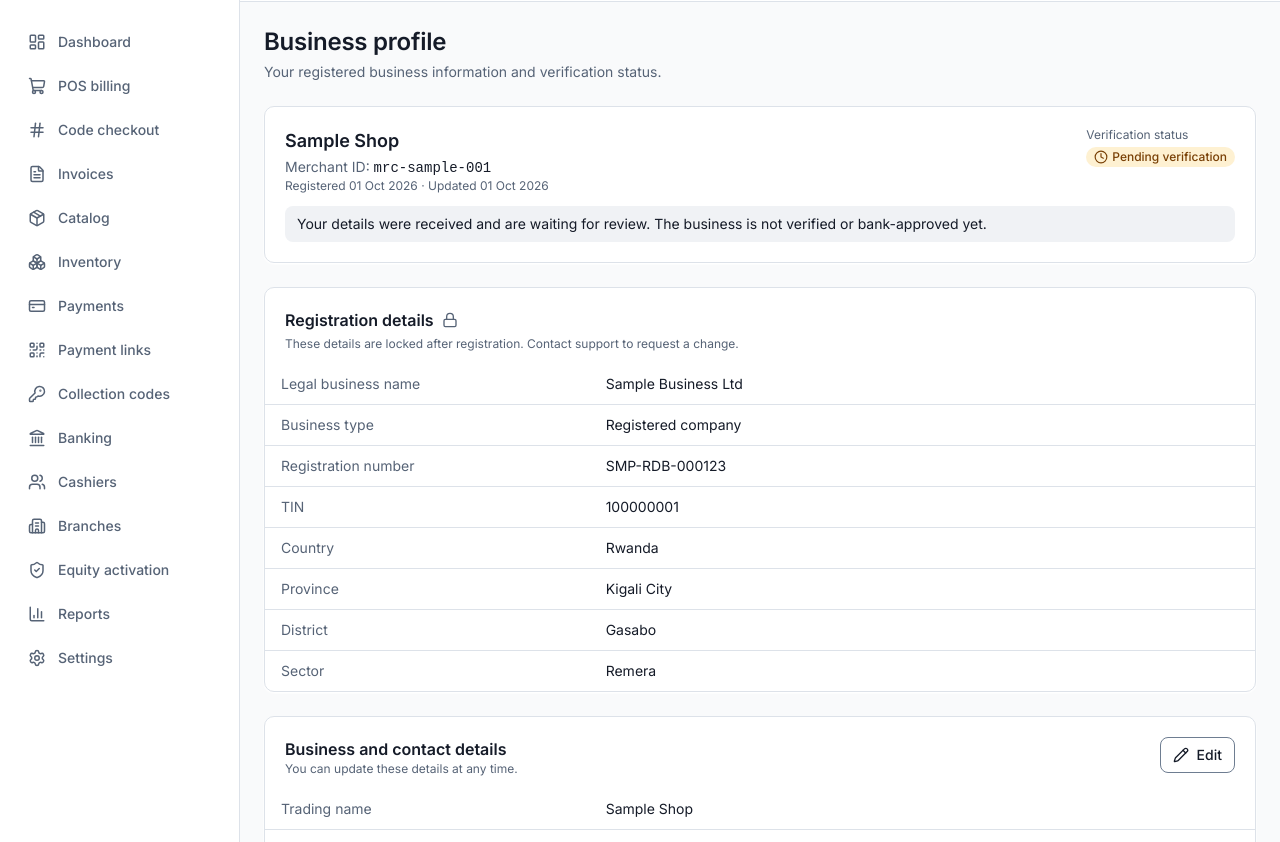
merchant profile › updates permitted fields and shows the saved values
The width and height of the screenshot is (1280, 842).
Expected: the text "mrc-sample-001" is shown, [374,160,491,176]
Step 1. Click the button named "Edit business and contact details" → (1197, 755), box [1160,737,1235,773]
(page scrolled)
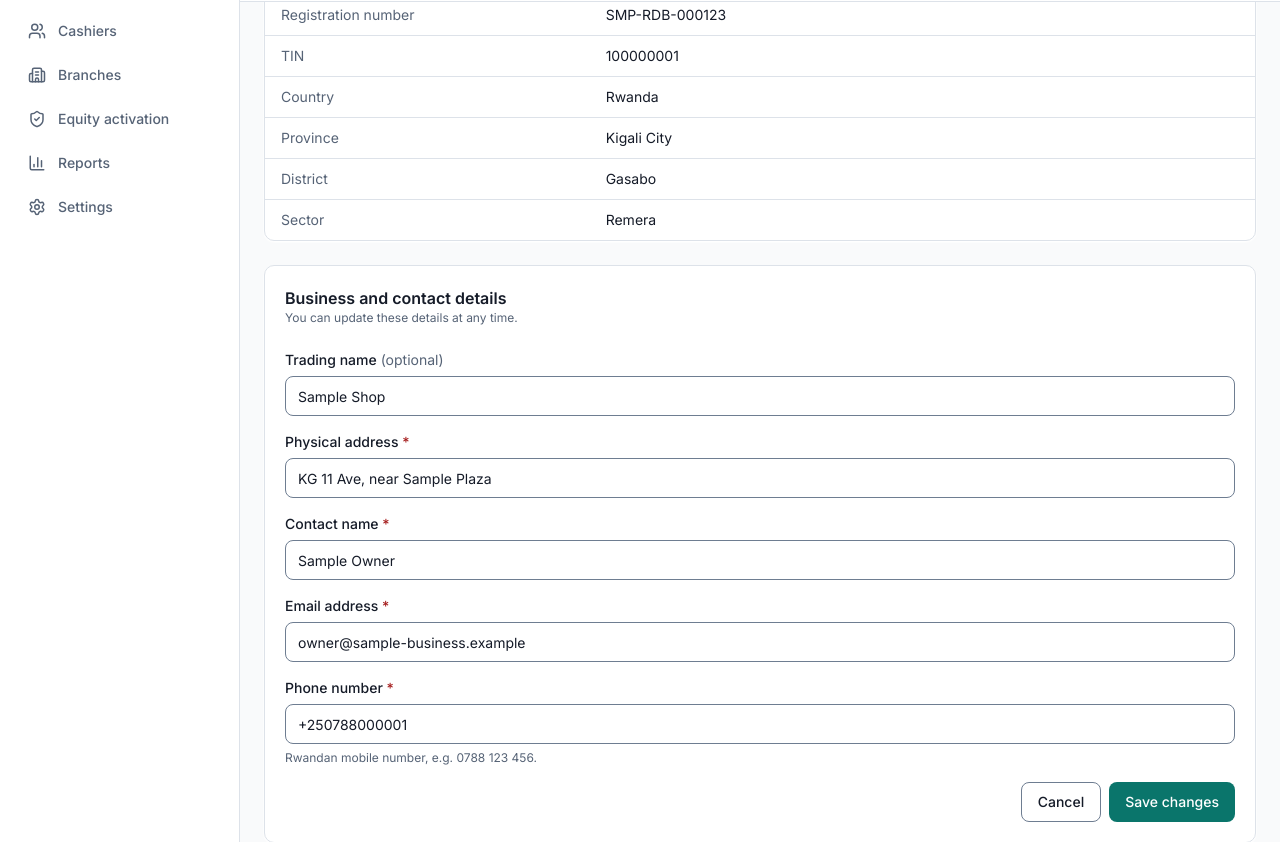
Step 2. Replace the text in the field labelled "Trading name (optional)" with "Sample Shop Remera" → (760, 396), box [285,376,1235,416]
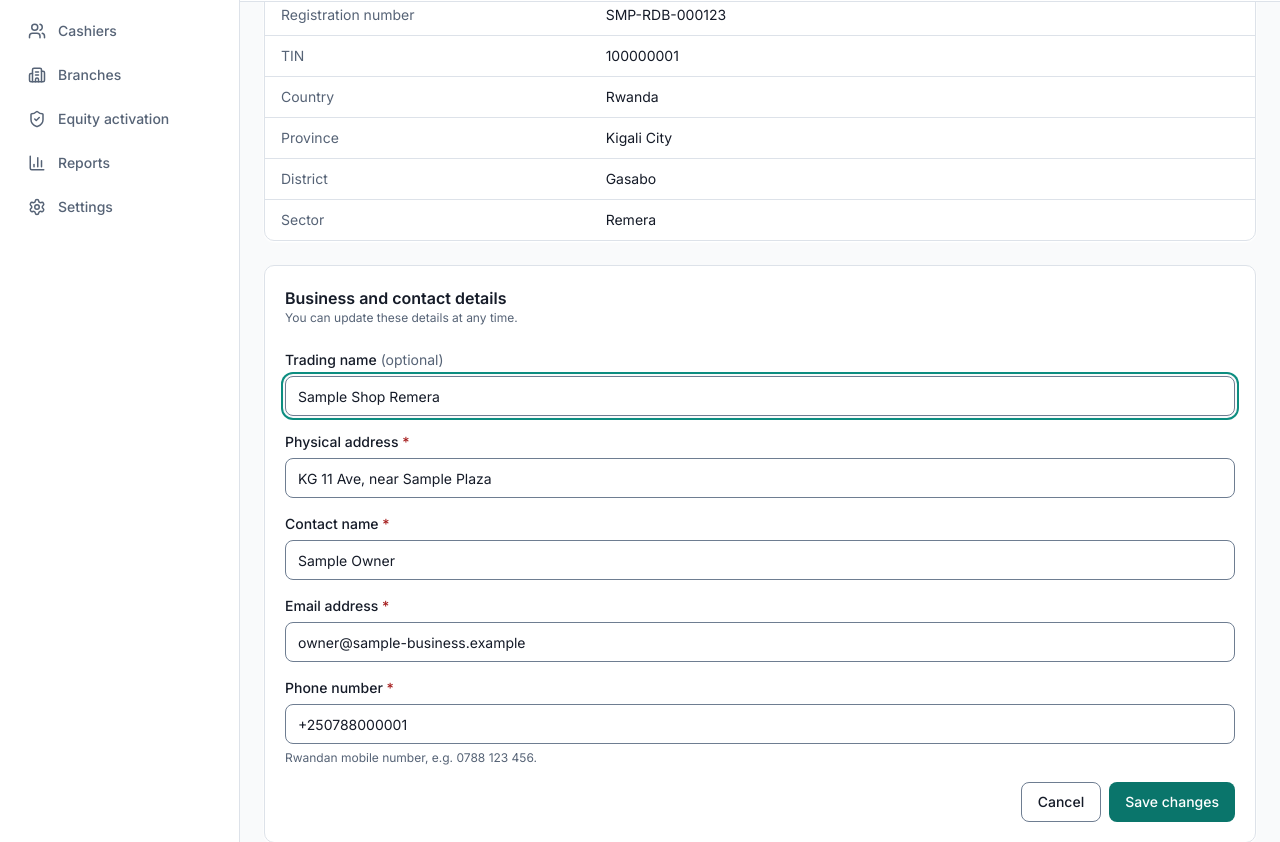
Step 3. Replace the text in the field labelled "Phone number *" with "0733 000 111" → (760, 724), box [285,704,1235,744]
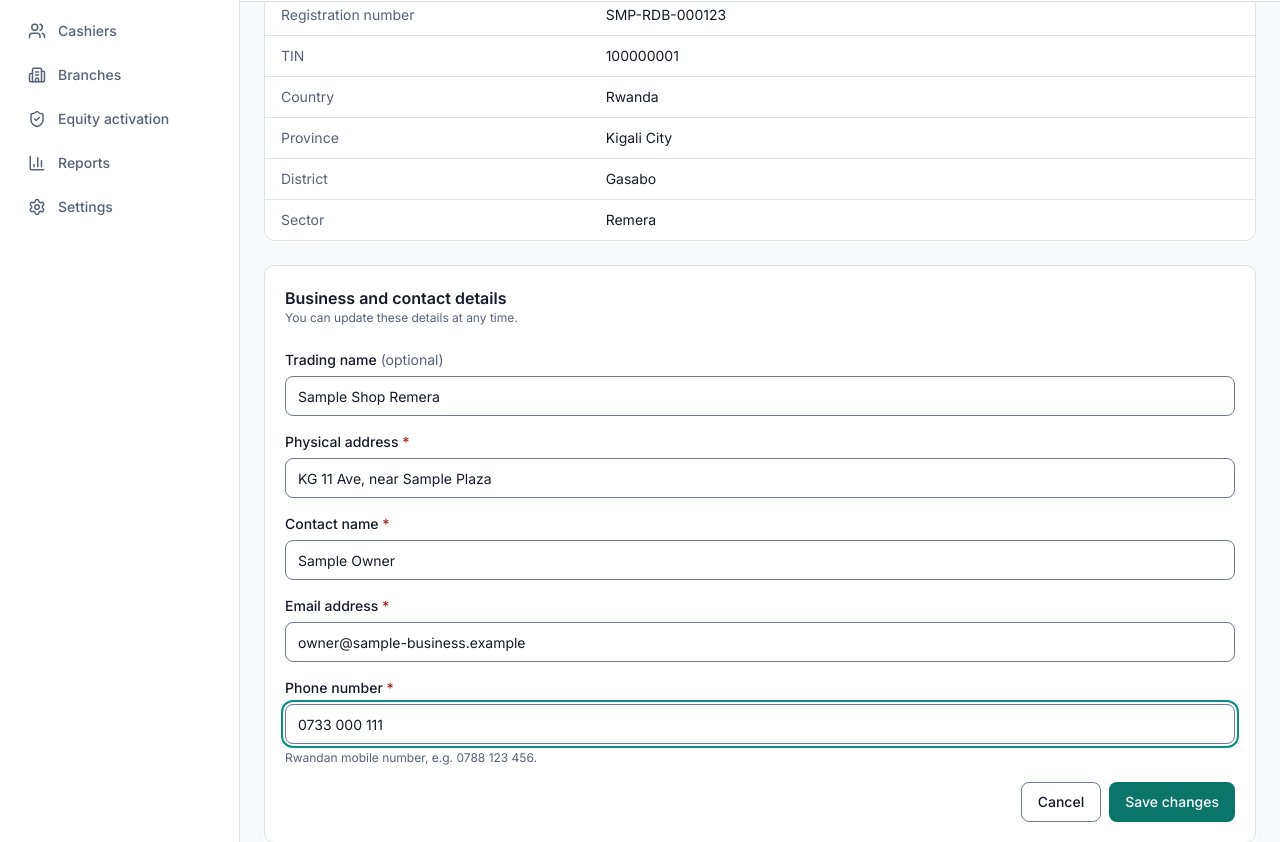
Step 4. Click the button "Save changes" → (1172, 802), box [1109,782,1235,822]
(page scrolled)
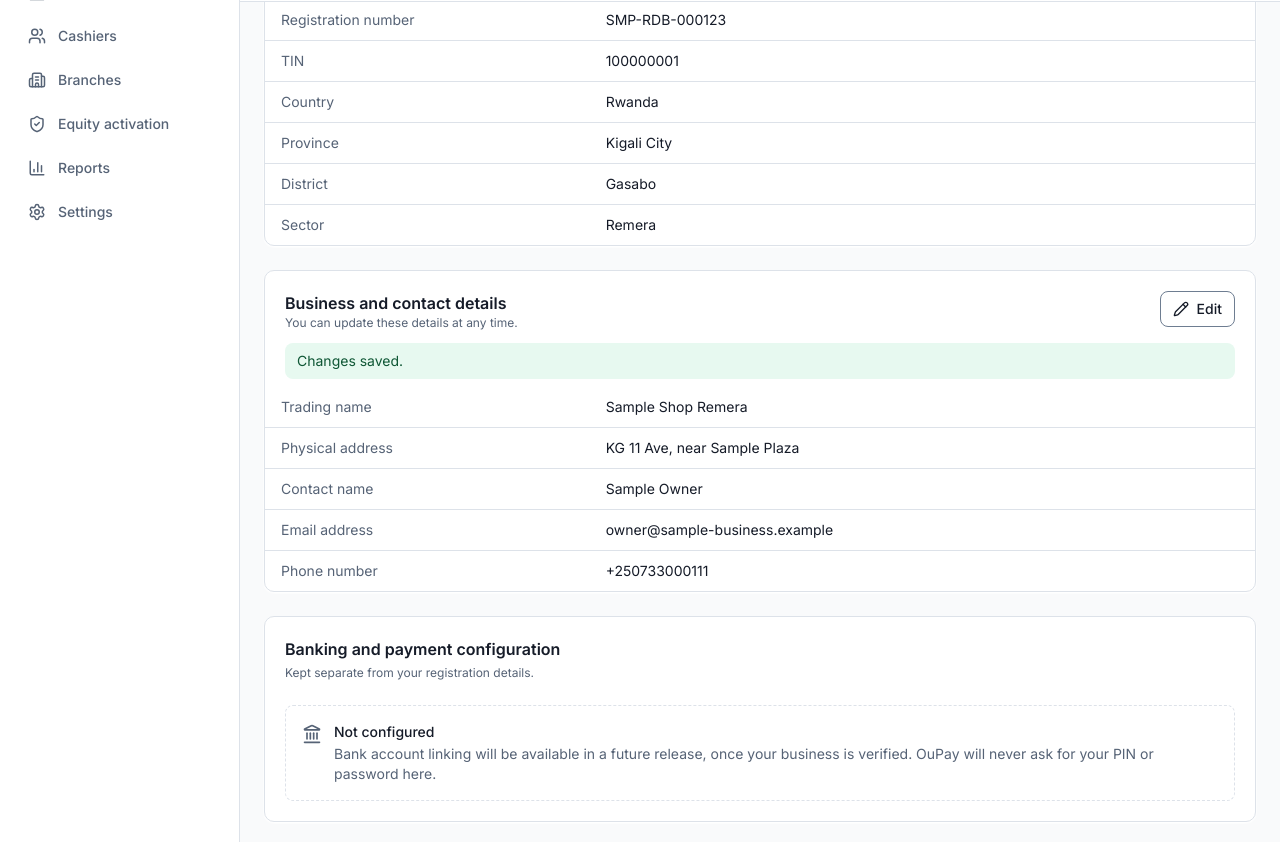
Now the message reads "Changes saved.", box [297,352,403,369]
Now the text "+250733000111" is shown, box [606,562,708,579]
